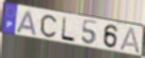5: (81, 19, 100, 47)
6: (102, 23, 119, 49)
A: (119, 26, 142, 55), (16, 10, 38, 37)
C: (39, 14, 58, 39)
L: (60, 16, 77, 44)
